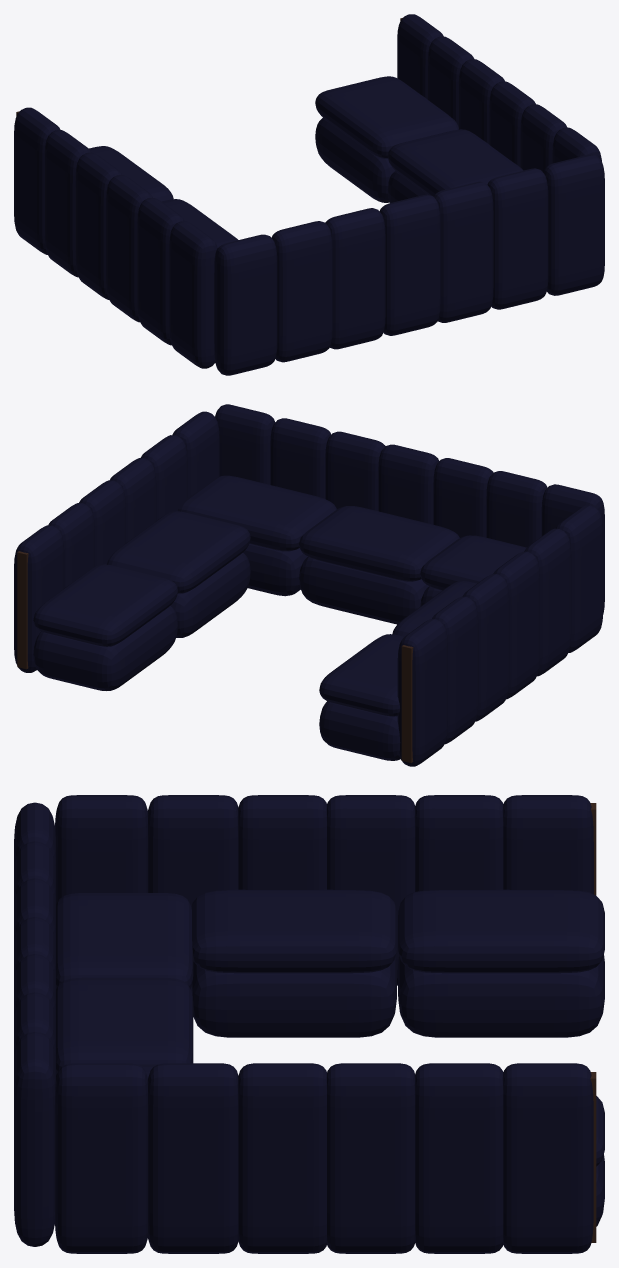
Rendered from sofa.fbx.
The picture shows the model from 3 angles, top to bottom: view 1: azimuth 30°, elevation 25°; view 2: azimuth 150°, elevation 25°; view 3: azimuth 270°, elevation 25°; orthographic projection. The views are drawn at different scales.
Parts seen in each view (by area): view 1: Cube.015; view 2: Cube.015; view 3: Cube.015.
Part boxes in pixels (<box>): Cube.015: <box>14,14,604,375</box>; Cube.015: <box>14,404,604,766</box>; Cube.015: <box>14,795,604,1253</box>.
Bounding box in the file's own units: 945 × 288 × 825.
